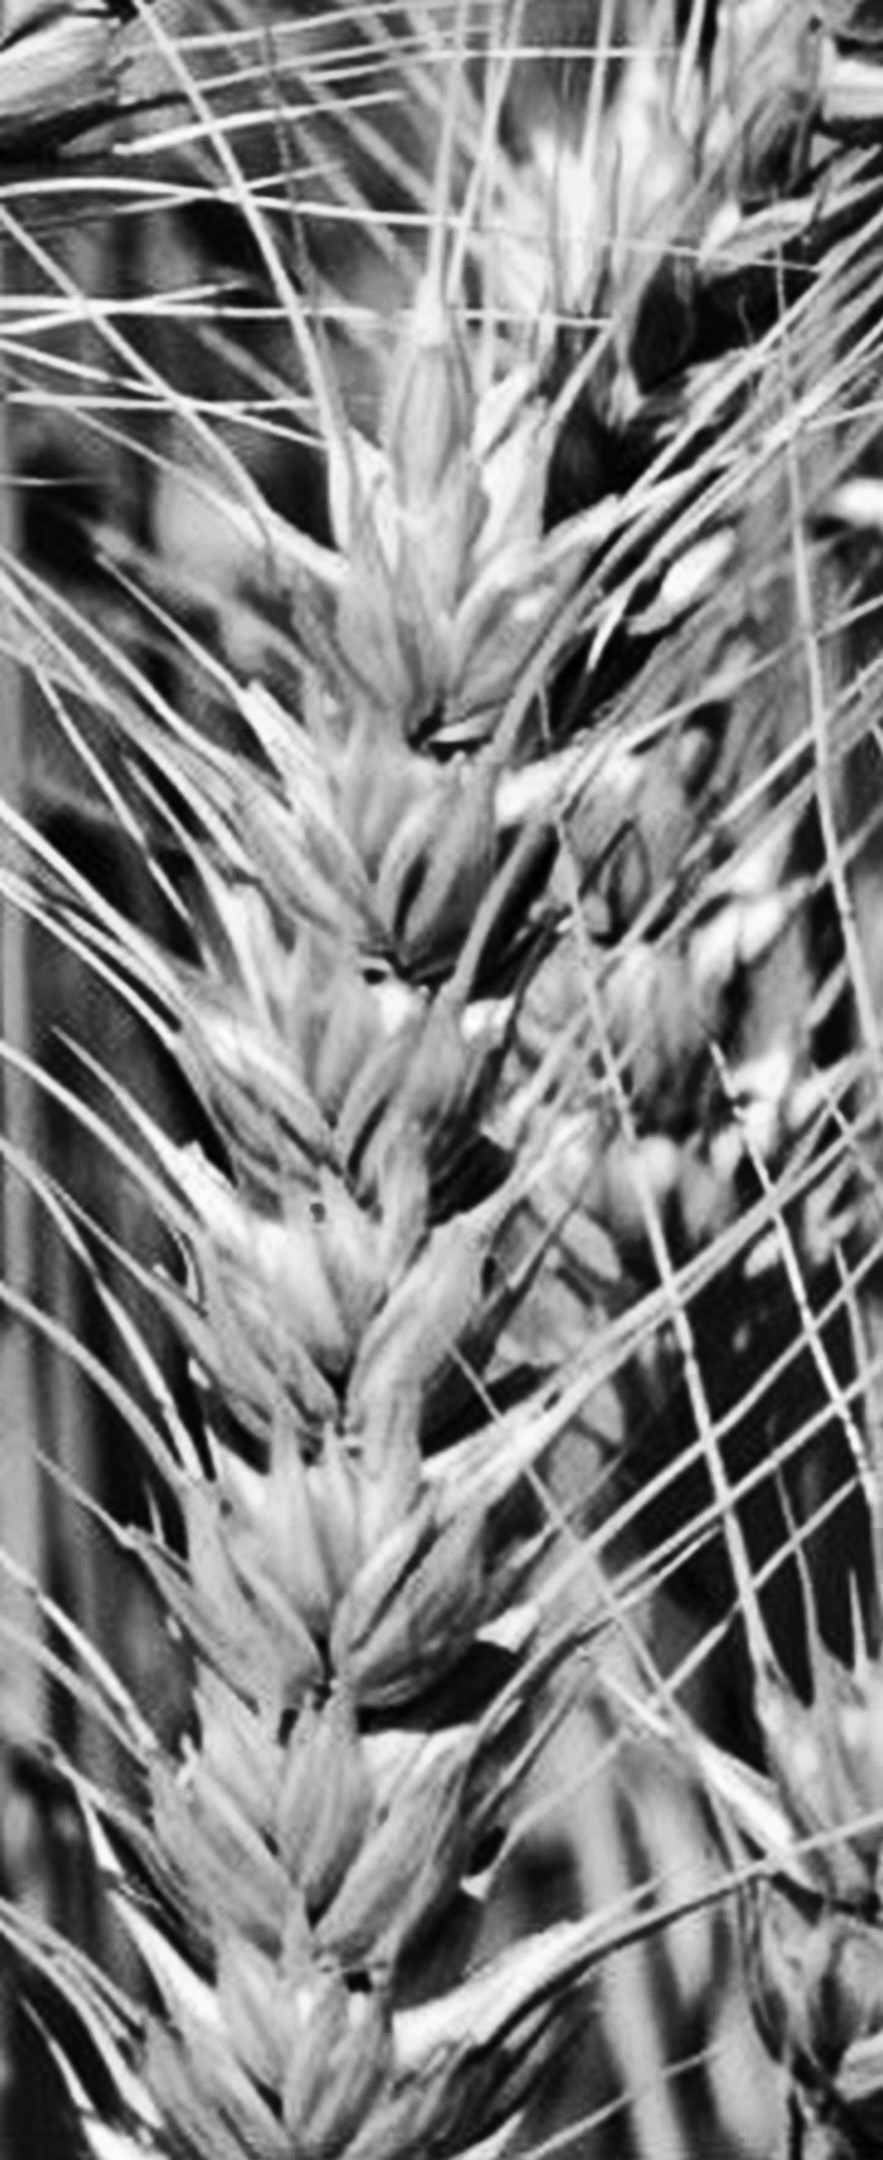Healthy Wheat: (118, 336, 598, 2139)
